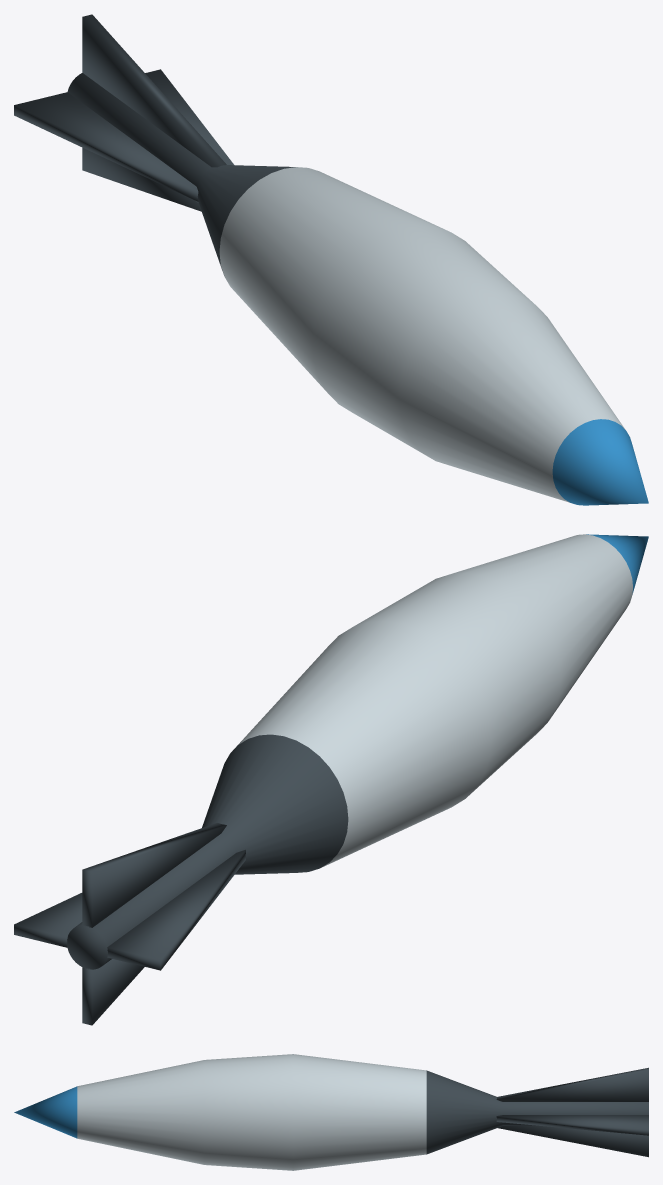
The model's file is mortar_81_projectile_display.glb.
3 renders of one model, top to bottom at view 1: azimuth 30°, elevation 25°; view 2: azimuth 150°, elevation 25°; view 3: azimuth 270°, elevation 25°, orthographic. The views are drawn at different scales.
Parts seen in each view (by area): view 1: AMMO_MESH.033; view 2: AMMO_MESH.033; view 3: AMMO_MESH.033.
Boxes of the visible parts, left/top/right/bottom form: AMMO_MESH.033: left=14, top=14, right=648, bottom=505; AMMO_MESH.033: left=14, top=534, right=648, bottom=1025; AMMO_MESH.033: left=14, top=1054, right=648, bottom=1170.
Bounding box in the file's own units: 0.081 × 0.081 × 0.44.
